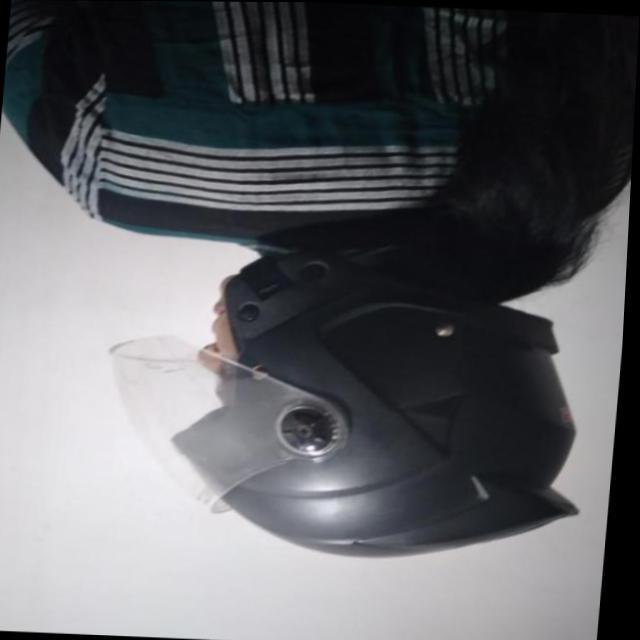with_helmet: (131, 241, 577, 552)
